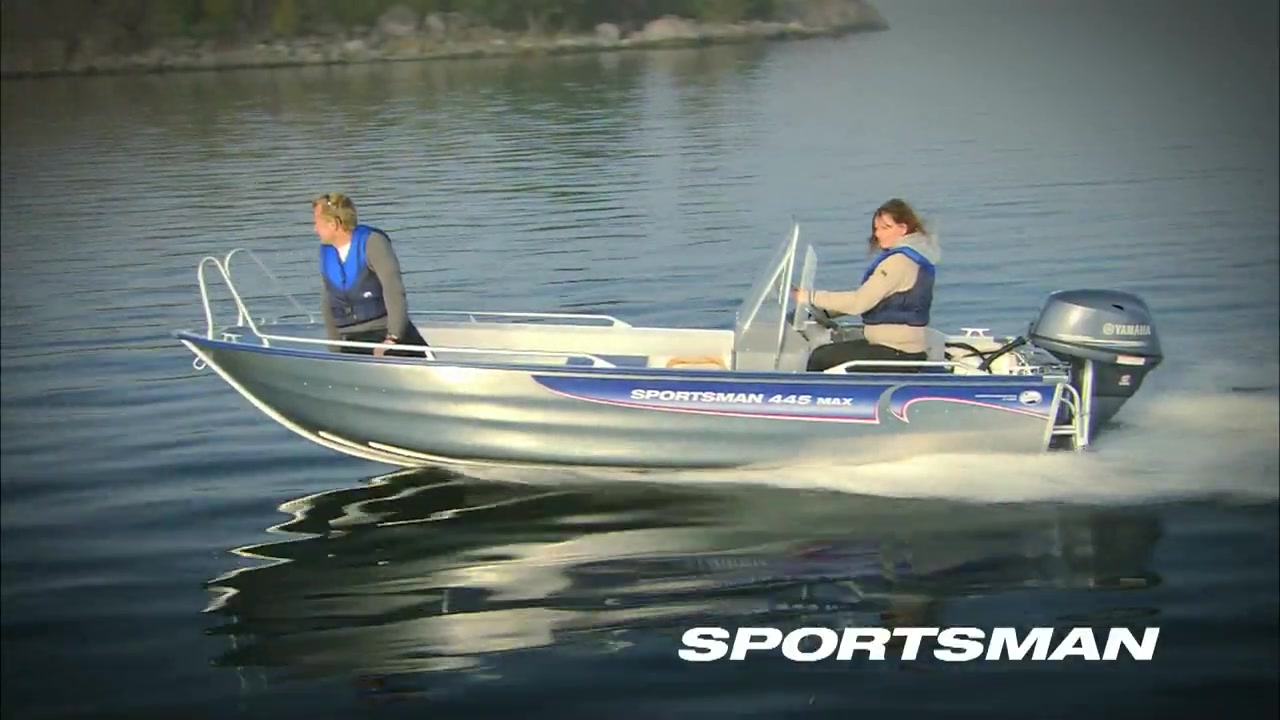boat: (177, 220, 1167, 489)
